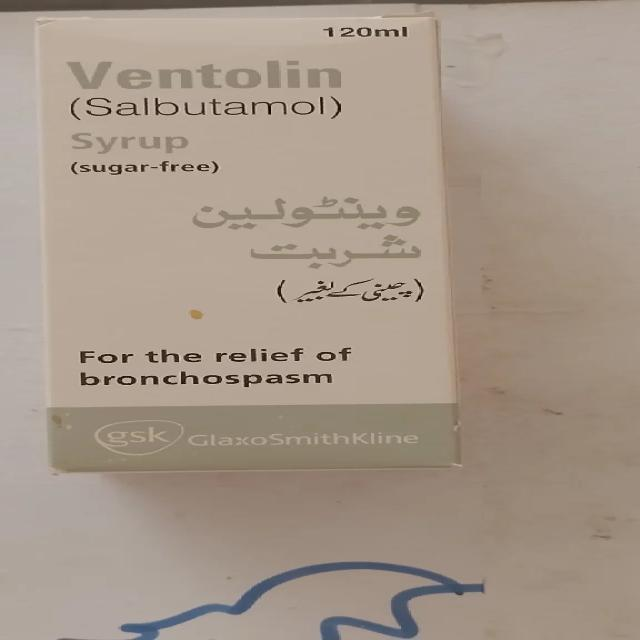drug-name: (67, 56, 343, 91)
